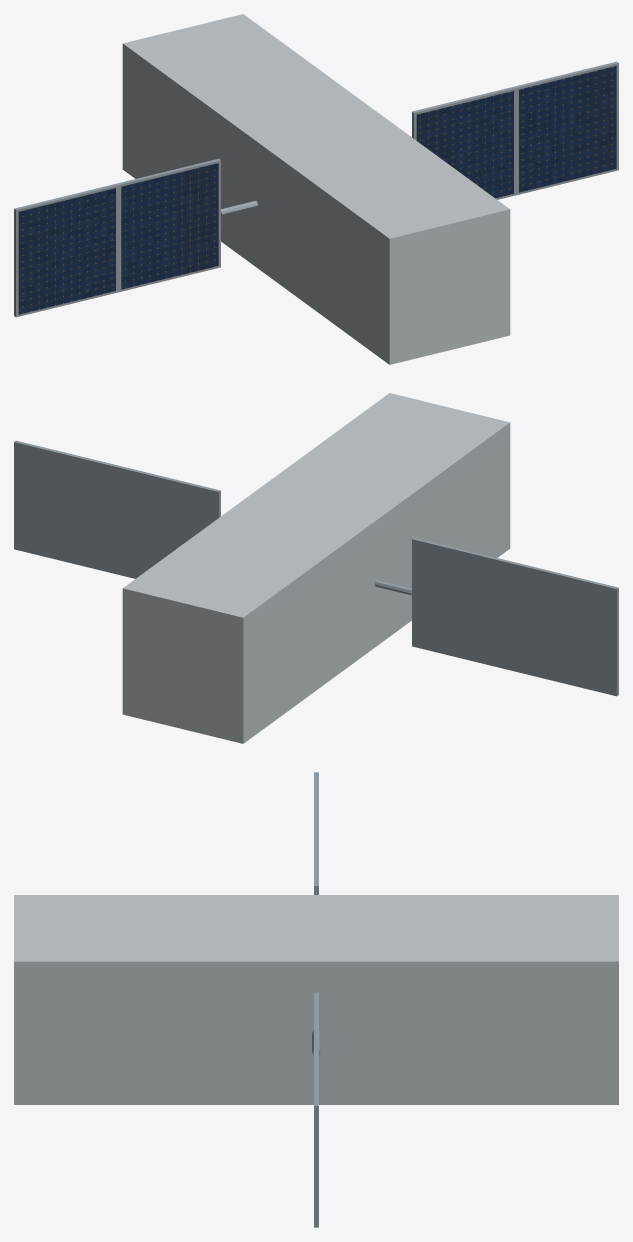
The model's file is ref-pelican-58296.glb.
3 views of the same model, one above another, from view 1: azimuth 30°, elevation 25°; view 2: azimuth 150°, elevation 25°; view 3: azimuth 270°, elevation 25° (orthographic). The views are drawn at different scales.
Visible parts, largest first — view 1: Spacecraft body, Photovoltaic laminates (×4), Array frame (×4); view 2: Spacecraft body, Array frame (×4); view 3: Spacecraft body, Array frame.
Part boxes in pixels (left/top/right/bottom): Spacecraft body: left=122, top=14, right=510, bottom=364; Photovoltaic laminates (×4): left=18, top=66, right=616, bottom=314; Array frame (×4): left=14, top=61, right=618, bottom=317; Spacecraft body: left=122, top=393, right=510, bottom=743; Array frame (×4): left=14, top=440, right=618, bottom=696; Spacecraft body: left=14, top=895, right=618, bottom=1104; Array frame: left=314, top=1049, right=318, bottom=1227.
Bounding box in the file's own units: 3 × 0.6 × 2.3.
3 materials, 1 textured.
